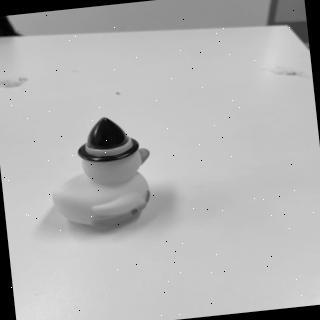duck_specialty: (44, 112, 161, 234)
